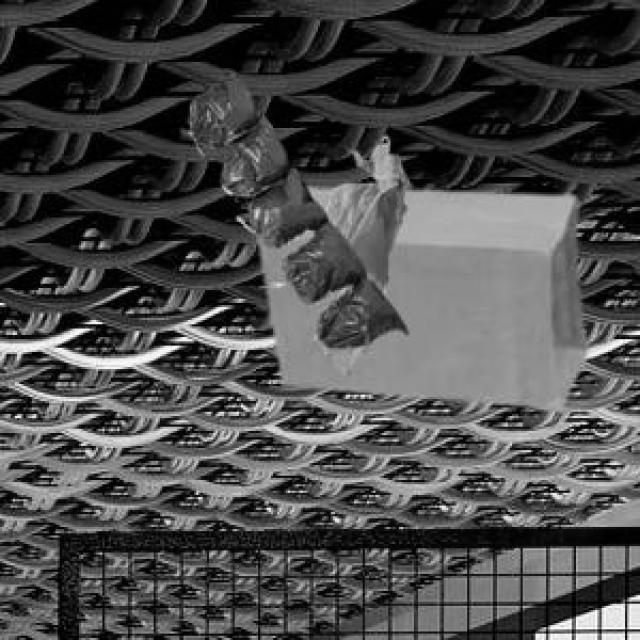miscellaneous trash: (186, 66, 405, 344)
paper: (254, 184, 582, 401)
